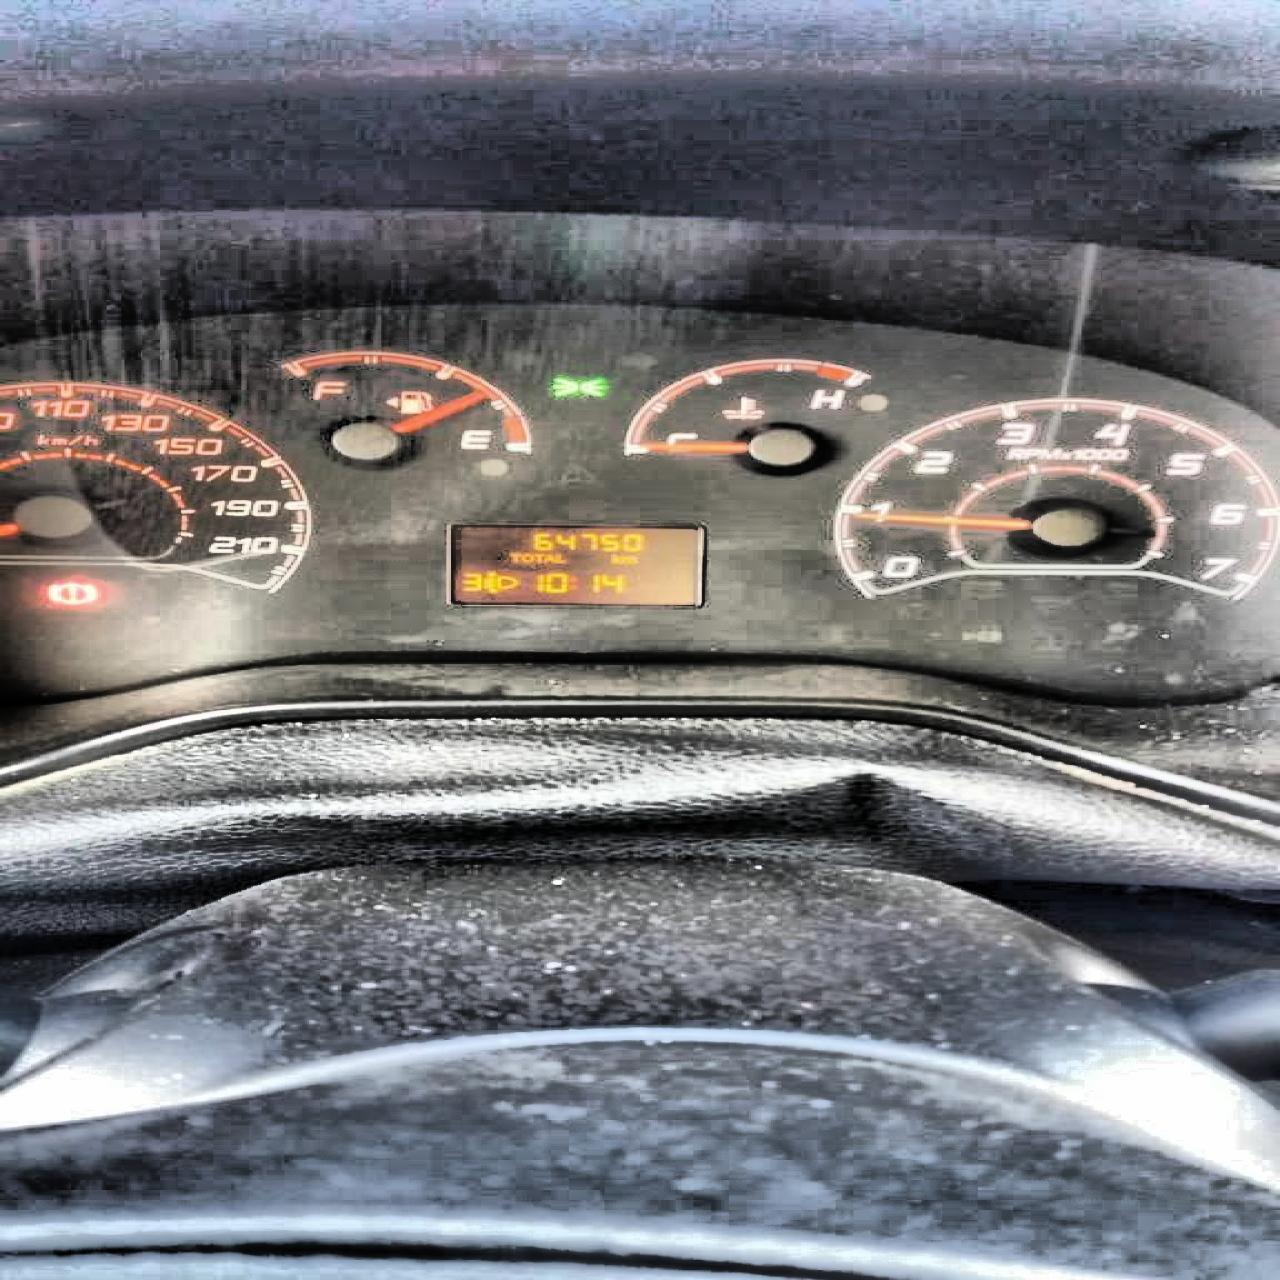0: (543, 570, 568, 594), (620, 532, 642, 551)
1: (533, 572, 545, 592), (588, 572, 600, 592)
3: (459, 571, 481, 591)
4: (600, 572, 622, 592), (553, 532, 576, 549)
5: (598, 532, 618, 551)
6: (531, 531, 551, 550)
7: (576, 532, 598, 550)
X: (551, 551, 567, 564), (618, 554, 638, 564), (518, 551, 533, 563), (506, 551, 520, 563), (566, 576, 578, 590), (610, 552, 620, 564), (543, 552, 553, 563), (531, 552, 542, 563)
odometer: (443, 522, 704, 607)
